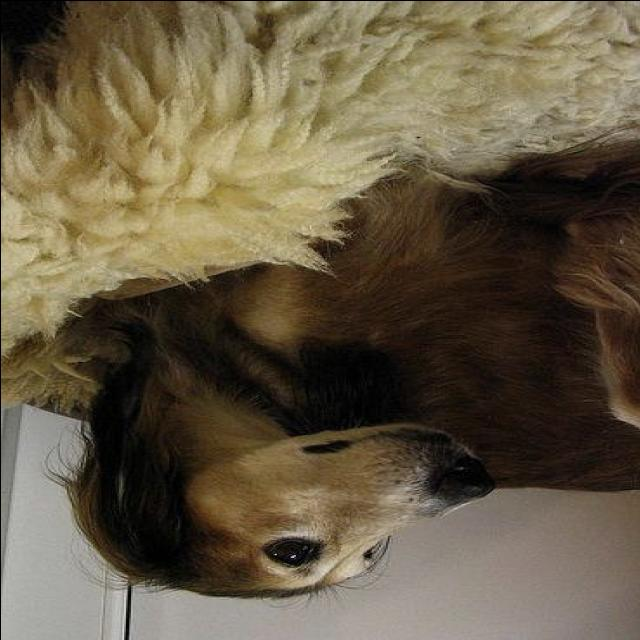saluki: (45, 140, 637, 598)
